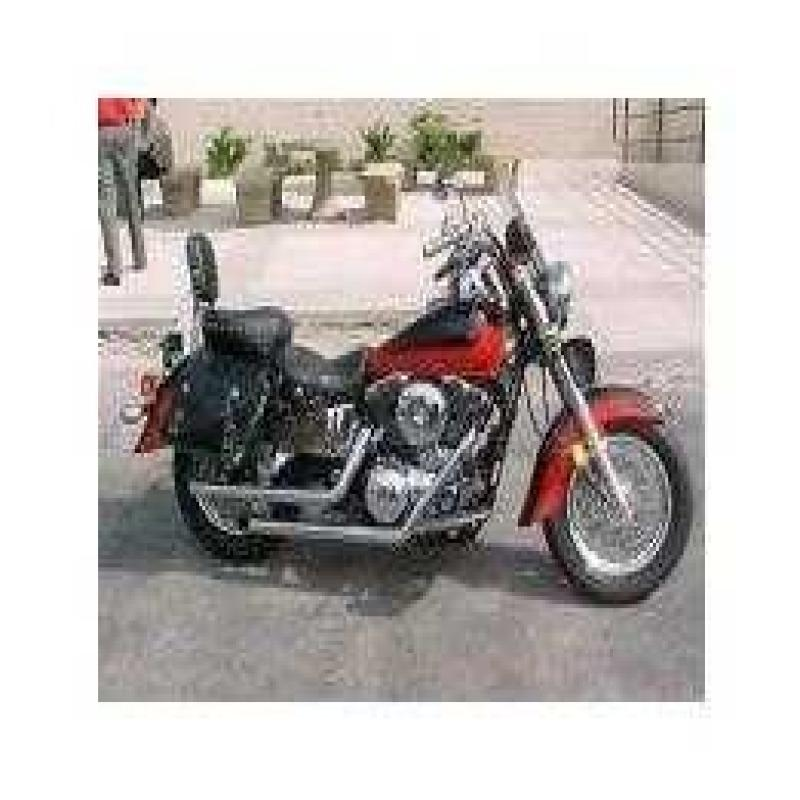bike: (140, 167, 700, 634)
